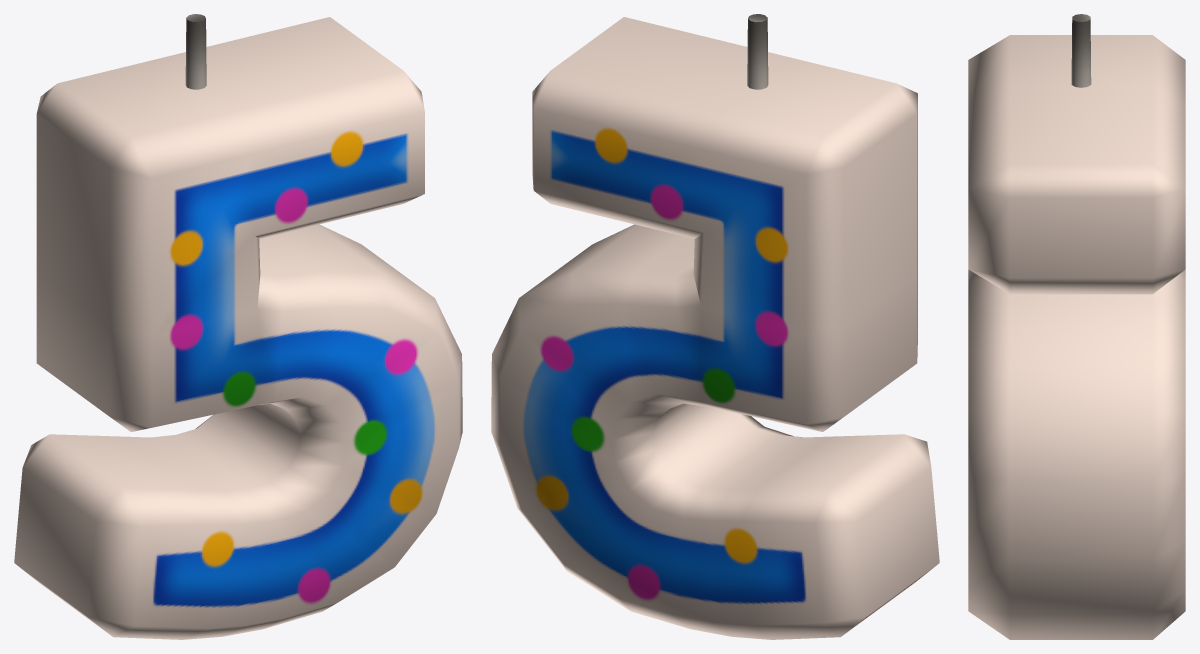
Rendered from Candle_5.fbx.
3 views of the same model, side by side, from view 1: azimuth 30°, elevation 25°; view 2: azimuth 150°, elevation 25°; view 3: azimuth 270°, elevation 25° (orthographic). The views are drawn at different scales.
Visible parts, largest first — view 1: Candle_5; view 2: Candle_5; view 3: Candle_5.
Boxes of the visible parts, box(x1,y1,x2,y2) form: Candle_5: box(14, 14, 462, 639); Candle_5: box(491, 14, 939, 639); Candle_5: box(968, 14, 1185, 639).
Bounding box in the file's own units: 20.26 × 30.52 × 10.45.
